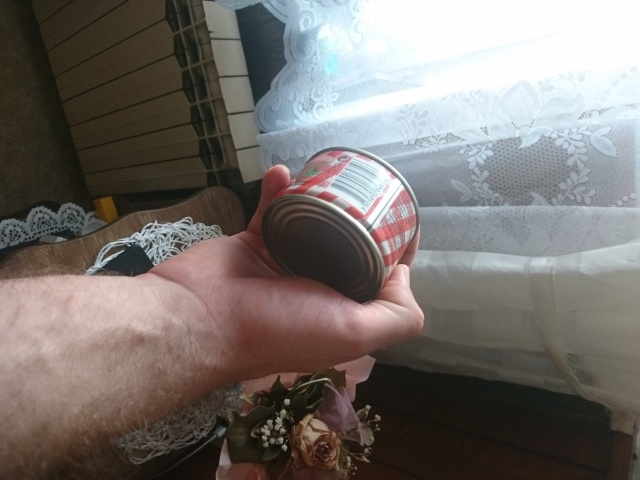Podravka Luncheon Meat 150g: (257, 143, 425, 308)
